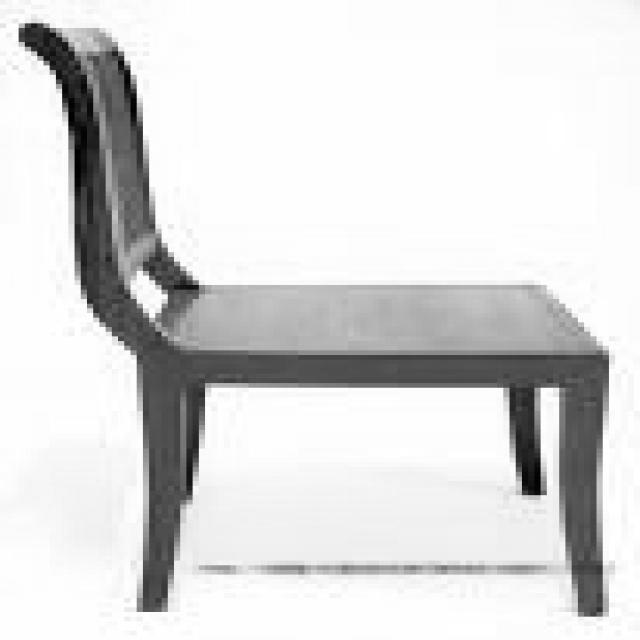chair: (22, 16, 616, 617)
